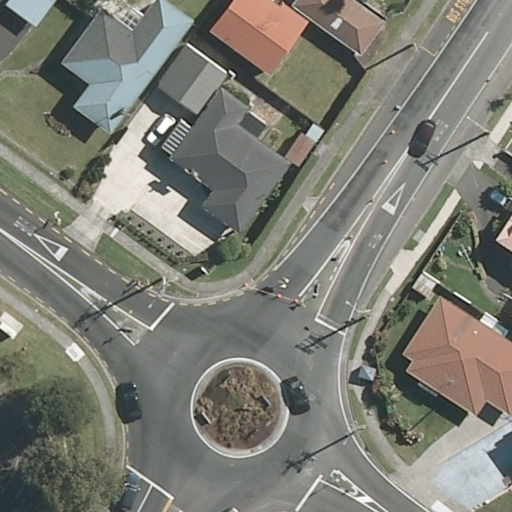DT: (343, 413, 370, 447), (478, 122, 504, 156), (152, 272, 177, 306)
